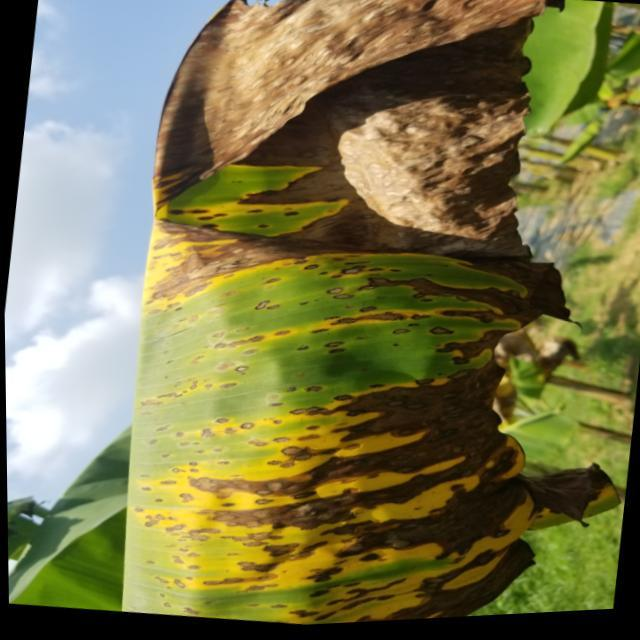Early_rust: (108, 0, 576, 640)
